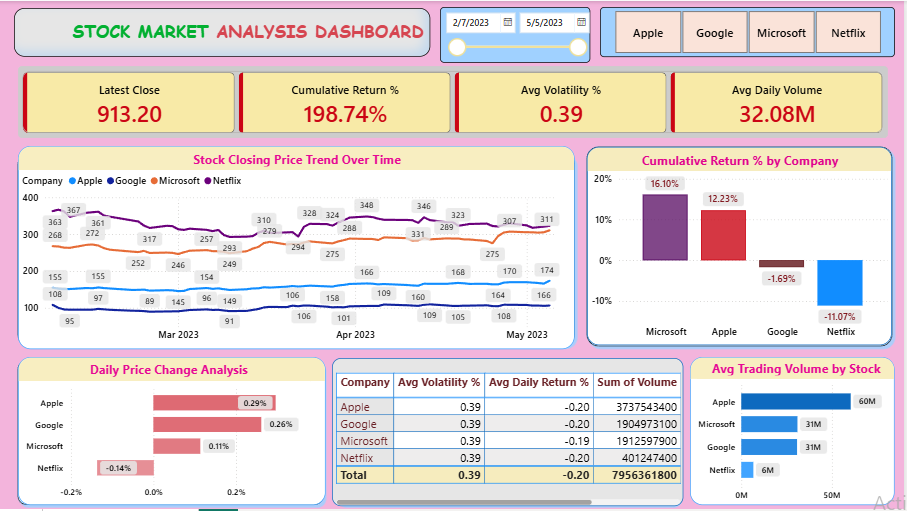

The dashboard page shown, as its layout file describes it:
{"tool":"powerbi","page":{"name":"Home","canvas":[1280,720],"ordinal":0},"visuals":[{"type":"textbox","box":[20.2,10.1,589.6,68.9],"z":0},{"type":"slicer","fields":{"Values":["stocks.Company"]},"box":[850,8.4,418.3,70.6],"z":1000},{"type":"slicer","fields":{"Values":["Calendar.Date"]},"box":[623.2,8.8,213.1,78.8],"z":2000},{"type":"shape","box":[20.4,210.2,799.8,284.6],"z":3000},{"type":"shape","box":[826.1,201.4,443.7,293.4],"z":4000},{"type":"lineChart","title":"Stock Closing Price Trend Over Time","fields":{"Category":["stocks.Date"],"Series":["stocks.Company"],"Y":["Avg(stocks.Close)"]},"box":[25.5,205.5,789.4,287.7],"z":5000},{"type":"clusteredBarChart","title":"Avg Trading Volume by Stock","fields":{"Category":["stocks.Company"],"Y":["Avg(stocks.Volume)"]},"box":[977.9,505,290.4,210.2],"z":6000},{"type":"shape","box":[20.4,505,443.7,214.5],"z":7000},{"type":"clusteredBarChart","title":"Daily Price Change Analysis","fields":{"Category":["stocks.Company"],"Y":["Avg(stocks.Daily Price Change (%))"]},"box":[24.8,505,436.4,210.2],"z":8000},{"type":"cardVisual","fields":{"Data":["stocks.Latest Close","stocks.Cumulative Return %","stocks.Avg Volatility %","stocks.Avg Daily Volume"]},"box":[24.8,91.9,1233.3,102.2],"z":9000},{"type":"clusteredColumnChart","fields":{"Category":["stocks.Company"],"Y":["stocks.Cumulative Return %"]},"box":[831.9,207.3,432,281],"z":10000},{"type":"shape","box":[470,505,497.7,214.5],"z":11000},{"type":"tableEx","fields":{"Values":["stocks.Company","stocks.Avg Volatility %","stocks.Average Daily Return %","Sum(stocks.Volume)","stocks.Cumulative Return %"]},"box":[470,506.5,497.7,210.2],"z":12000}]}

Visuals, with their boxes in screenshot pixels (x1, y1, x2, y2), scaled from the page's 1280x720 canvas onto the 907x511 screenshot:
textbox: (14,7,432,56)
slicer - stocks.Company: (602,6,899,56)
slicer - Calendar.Date: (442,6,593,62)
shape: (14,149,581,351)
shape: (585,143,900,351)
"Stock Closing Price Trend Over Time" lineChart: (18,146,577,350)
"Avg Trading Volume by Stock" clusteredBarChart: (693,358,899,508)
shape: (14,358,329,510)
"Daily Price Change Analysis" clusteredBarChart: (18,358,327,508)
cardVisual - stocks.Latest Close x stocks.Cumulative Return %: (18,65,891,138)
clusteredColumnChart - stocks.Company x stocks.Cumulative Return %: (589,147,896,347)
shape: (333,358,686,510)
tableEx - stocks.Company x stocks.Avg Volatility %: (333,359,686,509)
